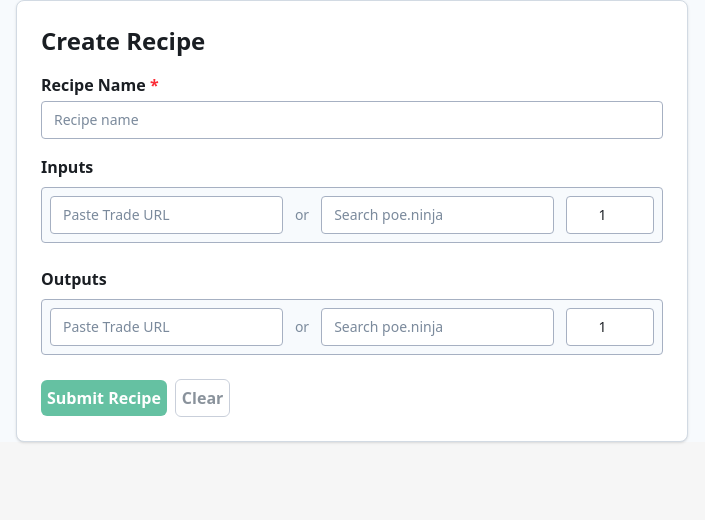
Scenario: CreateRecipePage › autofills the name field with the first output's resolved name if empty
# Output draft is the second trade-url-input
Type "https://www.pathofexile.com/trade/search/Standard/abcdefghij" into the field with test id "trade-url-input" below "Outputs".
click(166, 327); type("https://www.pathofexile.com/trade/search/Standard/abcdefghij")  # box [50,308,283,346]
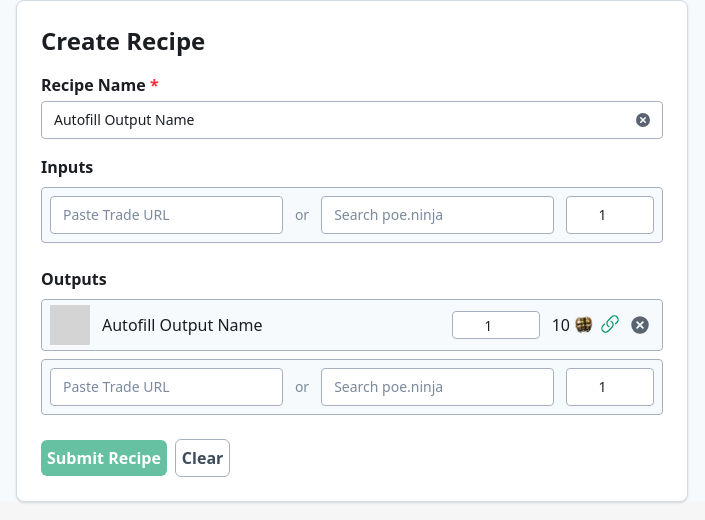
Now the text "Autofill Output Name" is shown, box [102,314,263,336]
Now the field with test id "recipe-name-input" holds "Autofill Output Name", box [41,101,663,139]
